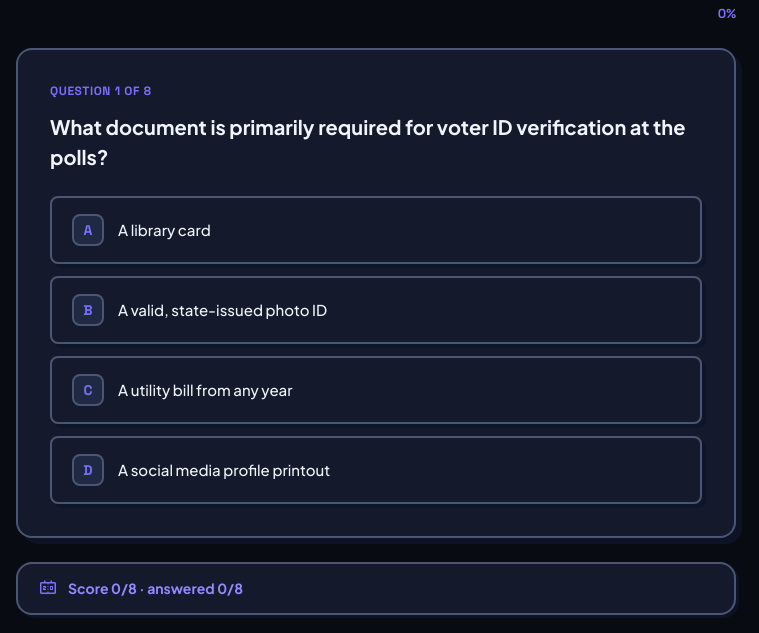
Test case: QuizPage › handles skipping a question when answered incorrectly
# Answer Q1 incorrectly
Click the button "A A library card" at point(88, 230), box left=50, top=196, right=702, bottom=264
(page scrolled)
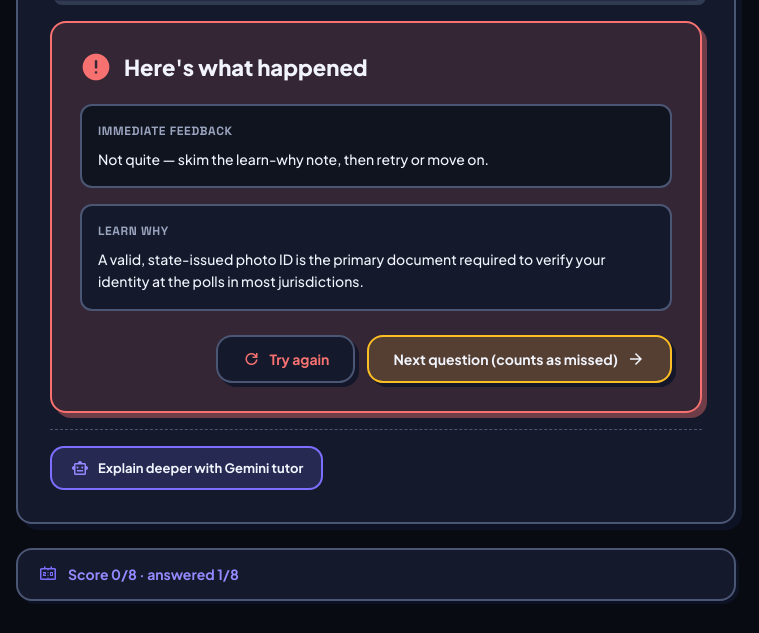
# Skip question (counts as missed)
Click the button "Next question (counts as missed)" at point(520, 359), box left=367, top=335, right=672, bottom=383
(page scrolled)
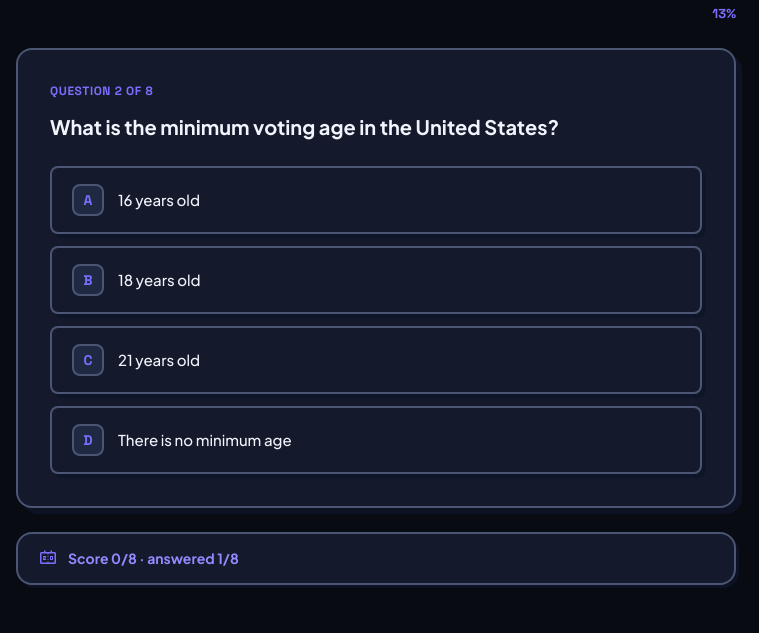
Result: the heading "What is the minimum voting age in the United States?" is shown at left=50, top=114, right=559, bottom=138
